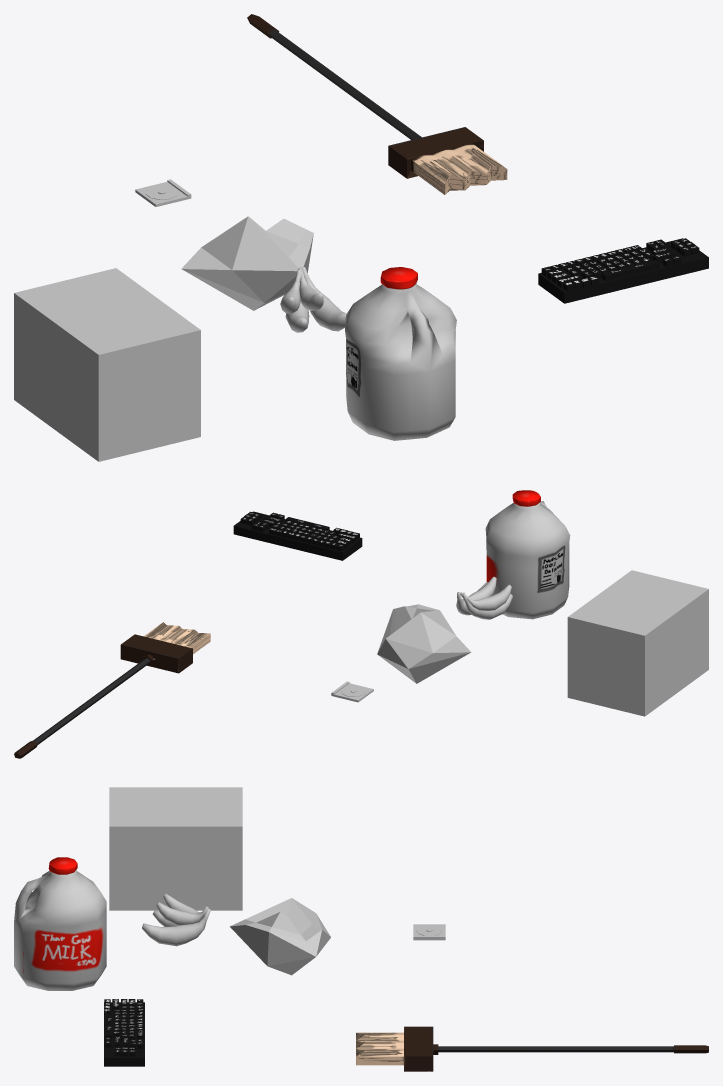
The model's file is Micelanious.fbx.
3 views of the same model, one above another, from view 1: azimuth 30°, elevation 25°; view 2: azimuth 150°, elevation 25°; view 3: azimuth 270°, elevation 25° (orthographic). The views are drawn at different scales.
Visible parts, largest first — view 1: LiteralBox, Milk, Trash, Broom, Keyboard, Bananas, Mixtape; view 2: LiteralBox, Milk, Trash, Broom, Keyboard, Bananas, Mixtape; view 3: LiteralBox, Milk, Broom, Trash, Keyboard, Bananas, Mixtape.
Boxes of the visible parts, box(x1,y1,x2,y2) form: LiteralBox: box(14, 268, 200, 461); Milk: box(345, 267, 456, 440); Trash: box(181, 216, 313, 310); Broom: box(247, 14, 507, 194); Keyboard: box(538, 238, 708, 303); Bananas: box(280, 267, 346, 332); Mixtape: box(135, 179, 191, 206); LiteralBox: box(567, 570, 708, 716); Milk: box(485, 490, 570, 619); Trash: box(377, 604, 471, 683); Broom: box(14, 622, 210, 758); Keyboard: box(233, 511, 362, 560); Bananas: box(456, 576, 512, 619); Mixtape: box(331, 681, 373, 702); LiteralBox: box(109, 787, 242, 910); Milk: box(14, 857, 106, 990); Broom: box(356, 1026, 708, 1071); Trash: box(230, 898, 330, 975); Keyboard: box(104, 999, 144, 1066); Bananas: box(142, 893, 210, 946); Mixtape: box(413, 924, 445, 940).
Size of the model in its own units: 1187 by 269 by 1498.
